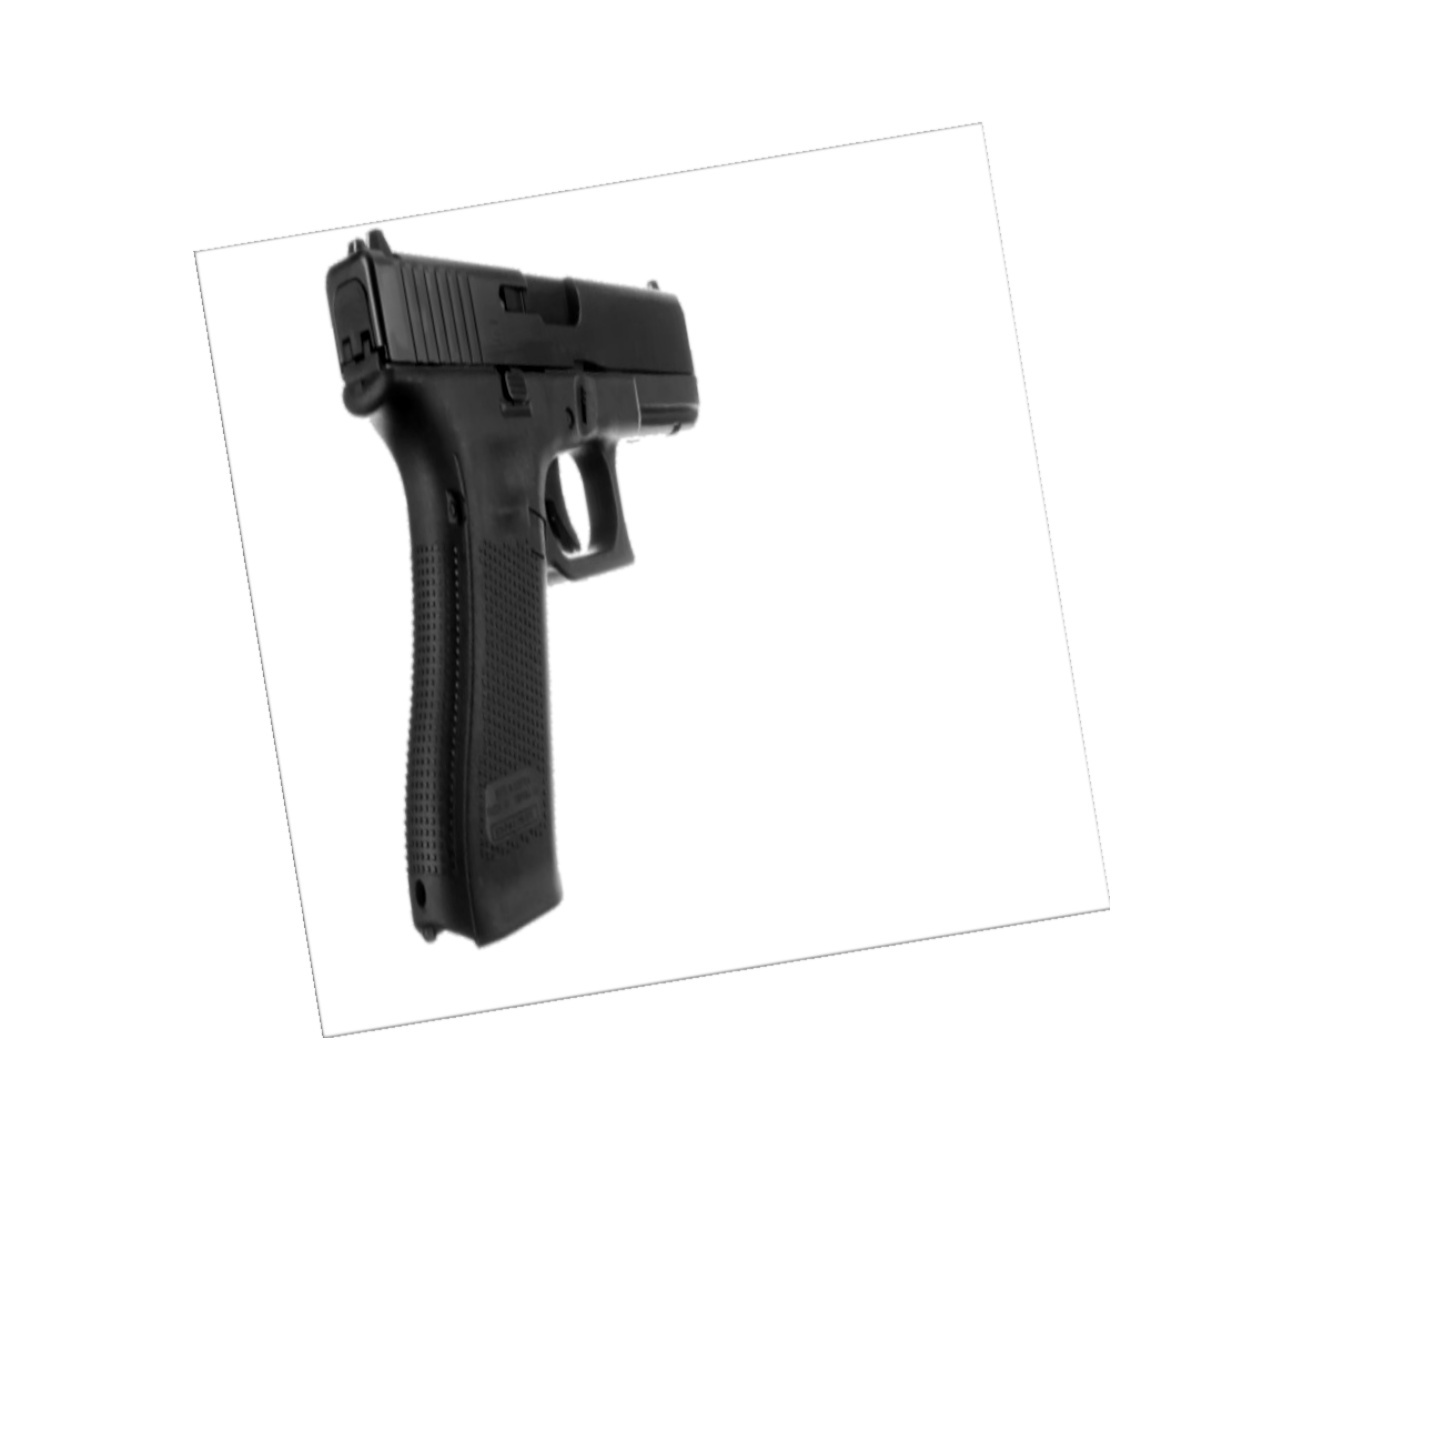gun: (311, 223, 715, 953)
